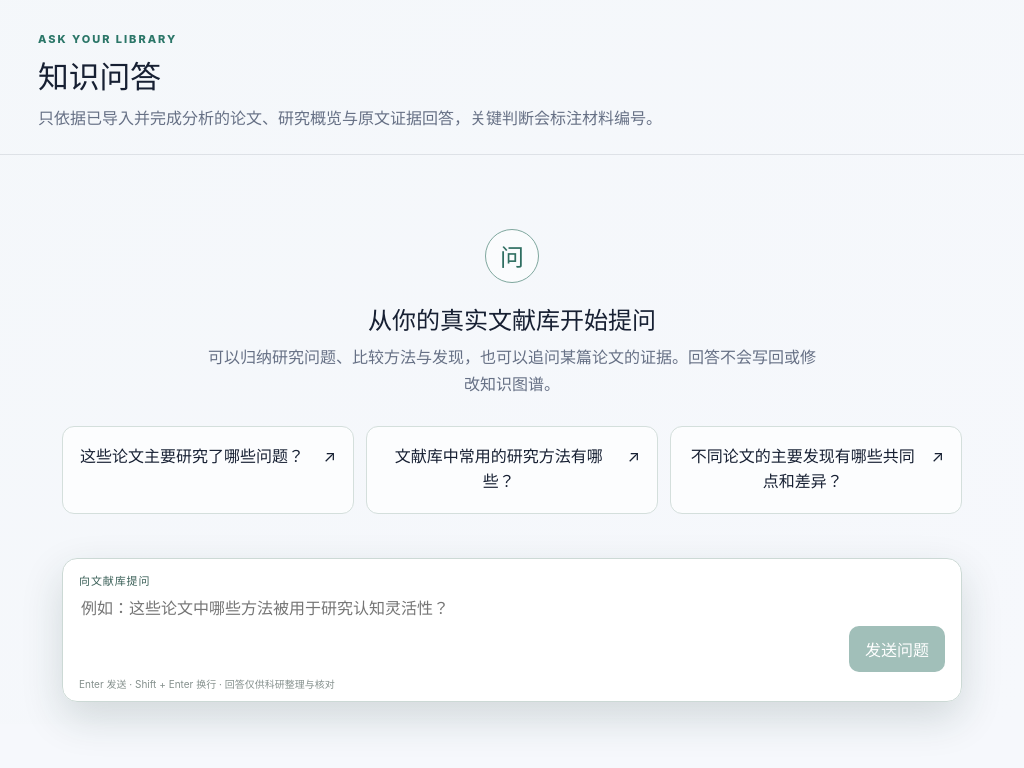
Test: KnowledgeQaPage › 提交问题并显示可回到论文详情的参考材料
The width and height of the screenshot is (1024, 768).
Type "使用了什么方法？" into the text box labelled "向文献库提问" at (458, 633), box top-left (79, 594), bottom-right (837, 672)
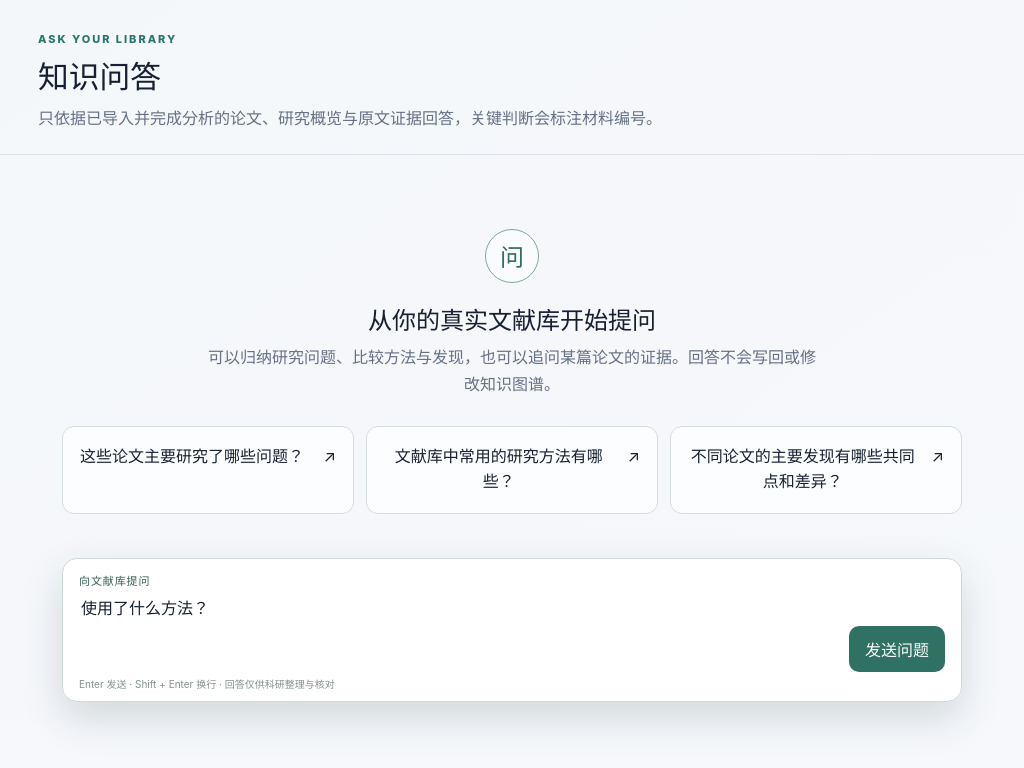
Click the button "发送问题" at (897, 649), box top-left (849, 626), bottom-right (945, 672)
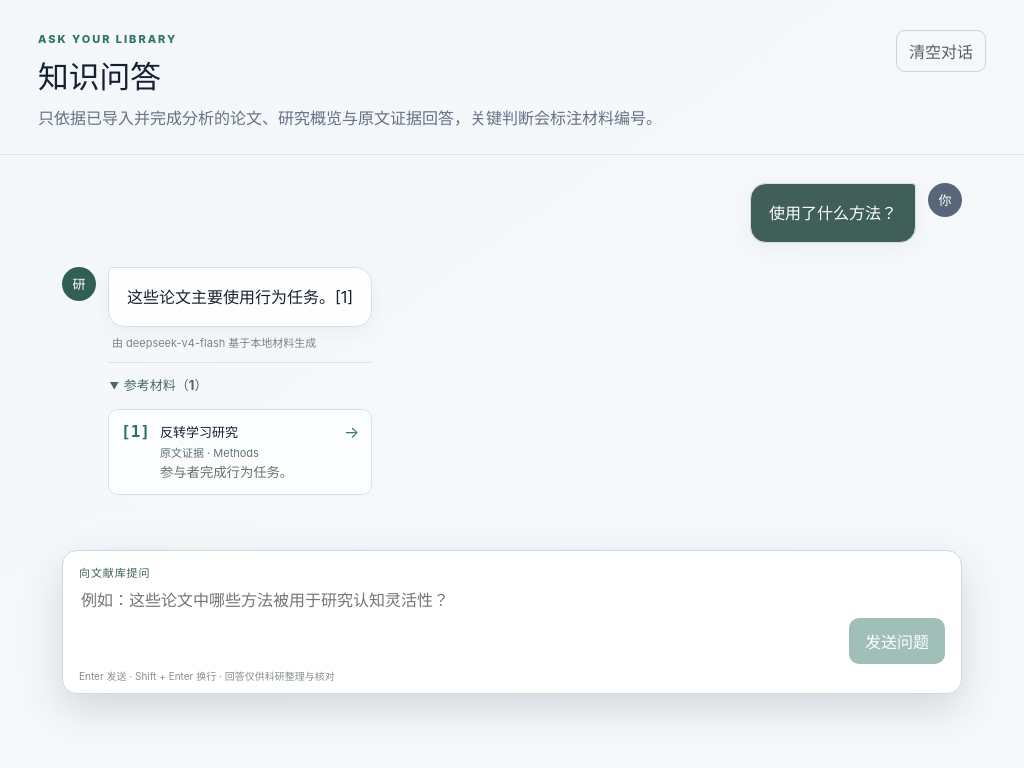
Now the text "这些论文主要使用行为任务。[1]" is shown, box top-left (108, 266), bottom-right (372, 326)
Now the text "由 deepseek-v4-flash 基于本地材料生成" is shown, box top-left (112, 336), bottom-right (316, 350)
